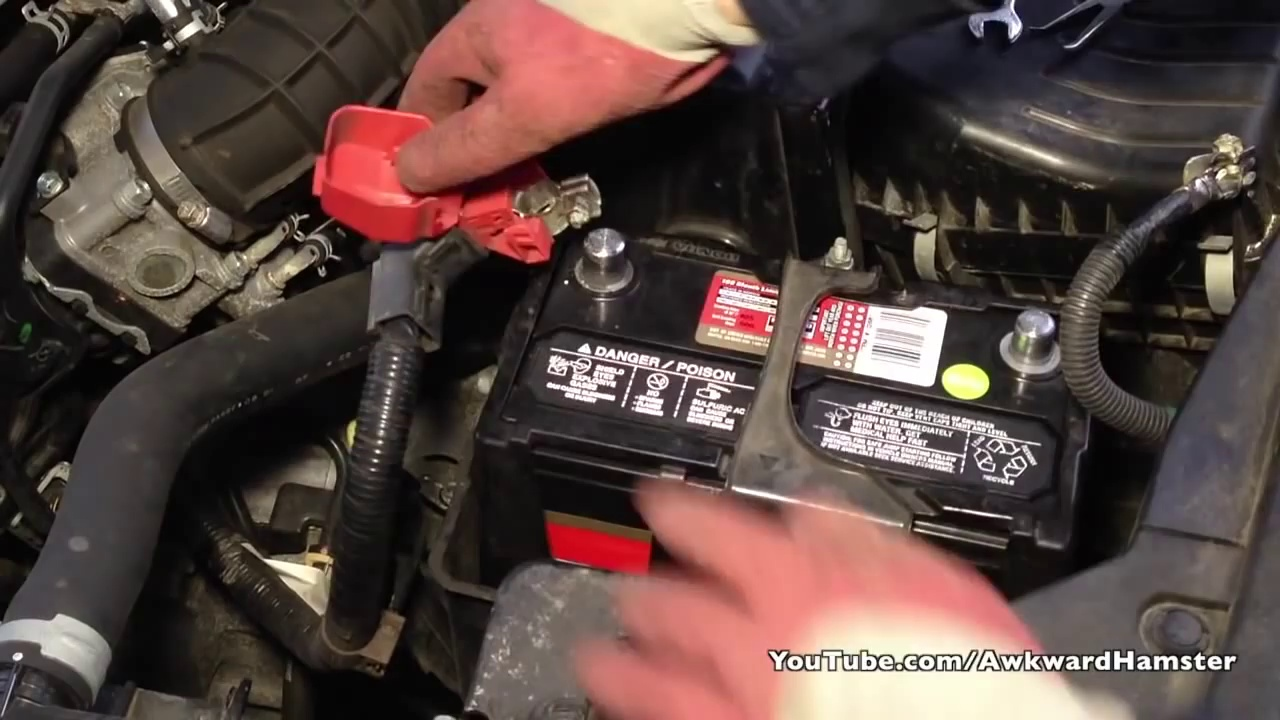battery: (478, 211, 1072, 544)
neg_disconnected: (946, 281, 1101, 396)
pos_disconnected: (335, 130, 628, 306)
pos_touched: (398, 38, 644, 327)
